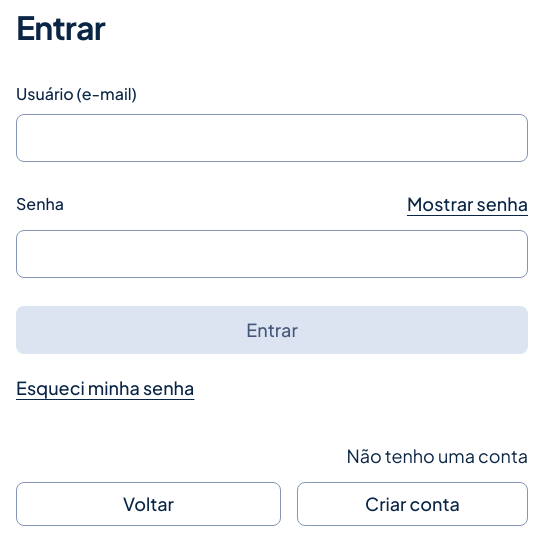
Test: LoginPage › toggles password visibility
The width and height of the screenshot is (548, 543).
Step 1. Click the button "Mostrar senha" → (468, 204), box [407, 190, 528, 218]
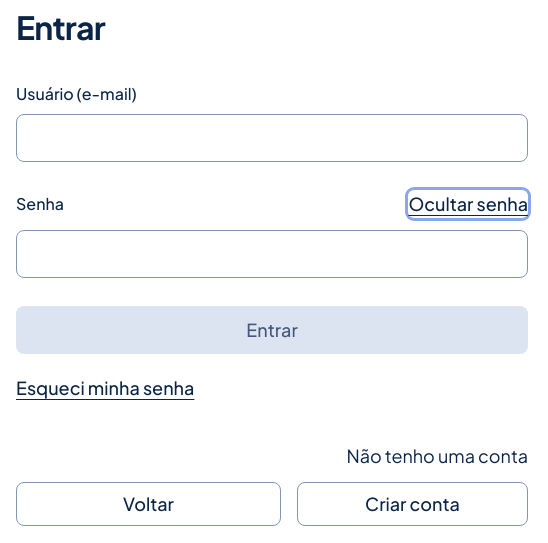
Result: the button "Ocultar senha" is shown at [408, 190, 528, 218]
